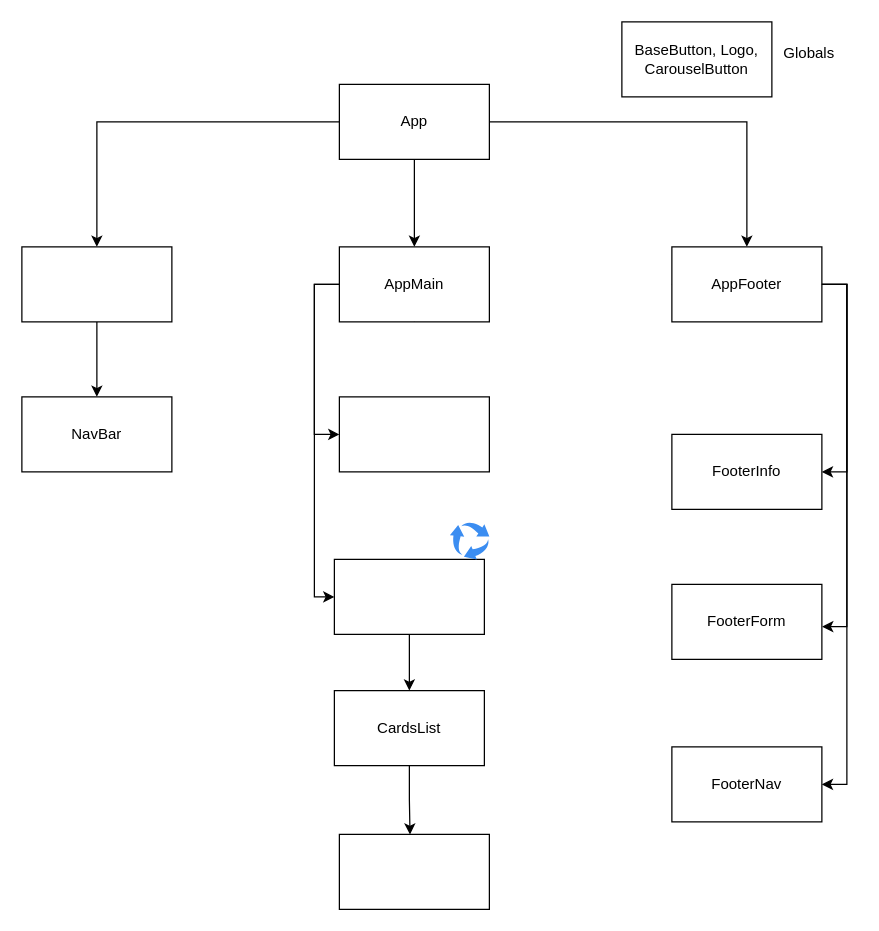
Image size: 879x931. Some labels were removed from this diagram. The centre of each missing label's shape, as x and y in pixels:
"AppJumbotron" belongs at point 413,434.
"AppSection" belongs at point 408,596.
"Card" belongs at point 413,871.
"HeaderApp" belongs at point 96,284.
